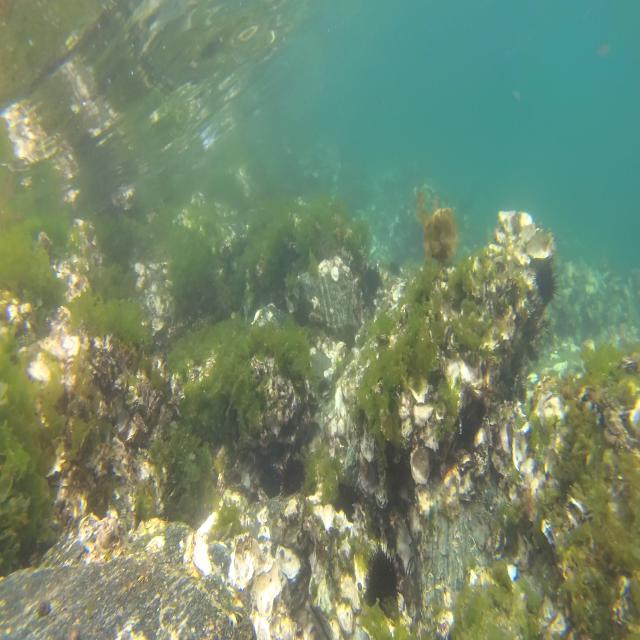echinus: (366, 545, 400, 611), (331, 470, 360, 526), (535, 253, 562, 306), (278, 455, 306, 498), (363, 263, 382, 304), (388, 257, 403, 286)
